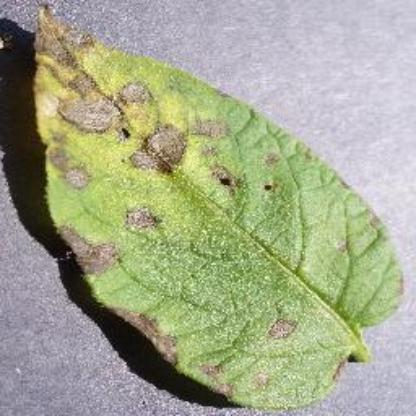Early-Blight: (15, 3, 407, 410)
